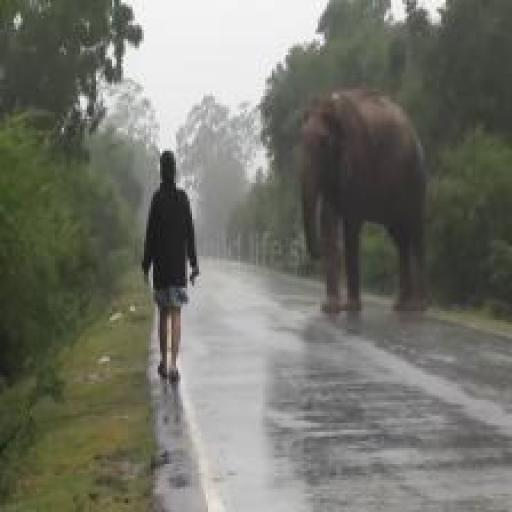Elephant: (279, 82, 459, 322)
